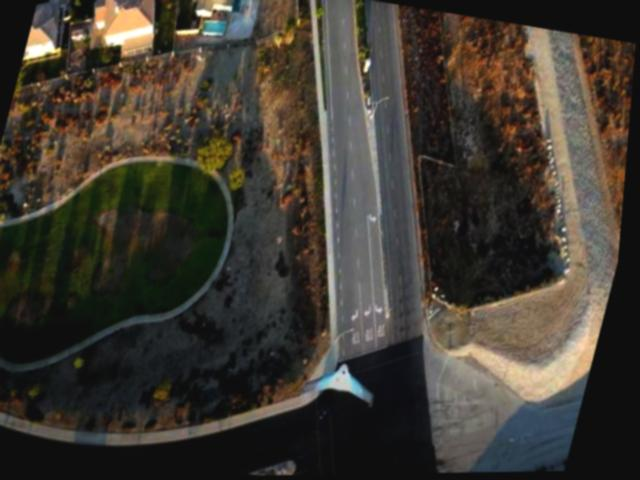iha: (311, 357, 390, 410)
